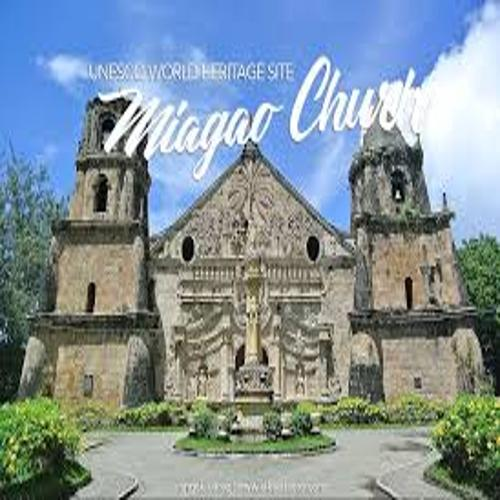Miagao Church: (45, 67, 493, 420)
